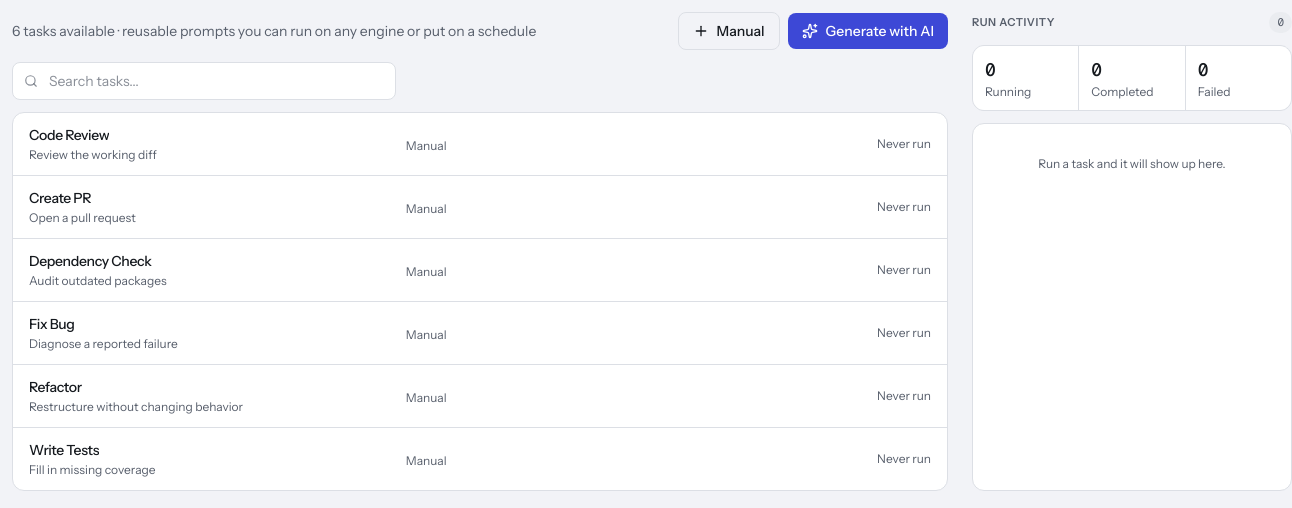
Test: TaskList search › shows an empty state when nothing matches
This screenshot has width=1292, height=508.
In the field labelled "Search tasks": (204, 81) x1=12 y1=62 x2=396 y2=100, type "nonexistent"
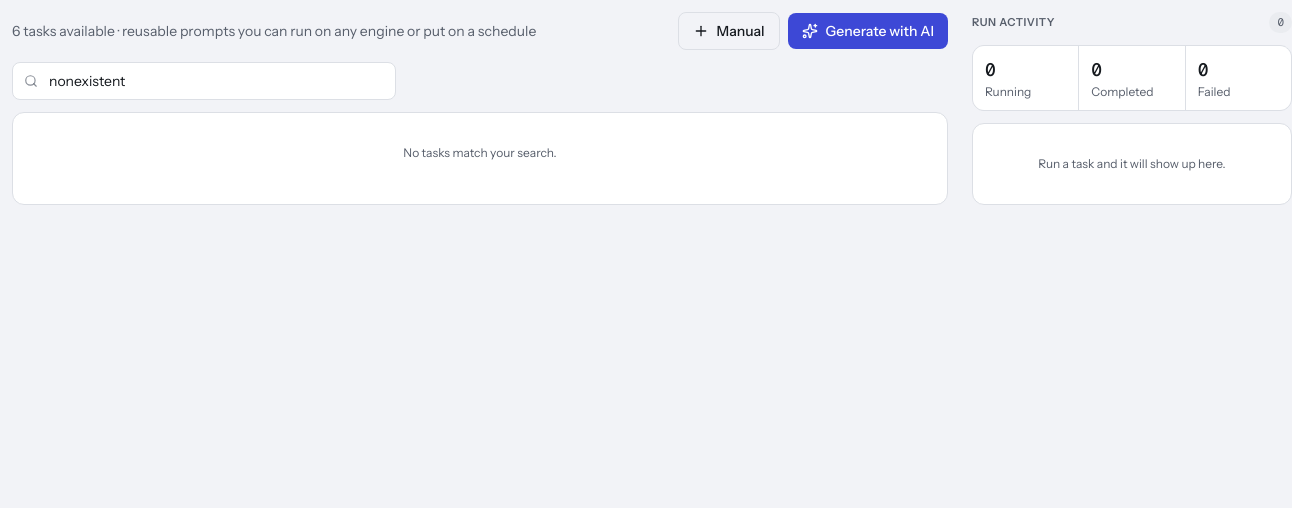
Result: the text "No tasks match your search." is shown at x1=403 y1=145 x2=557 y2=161
